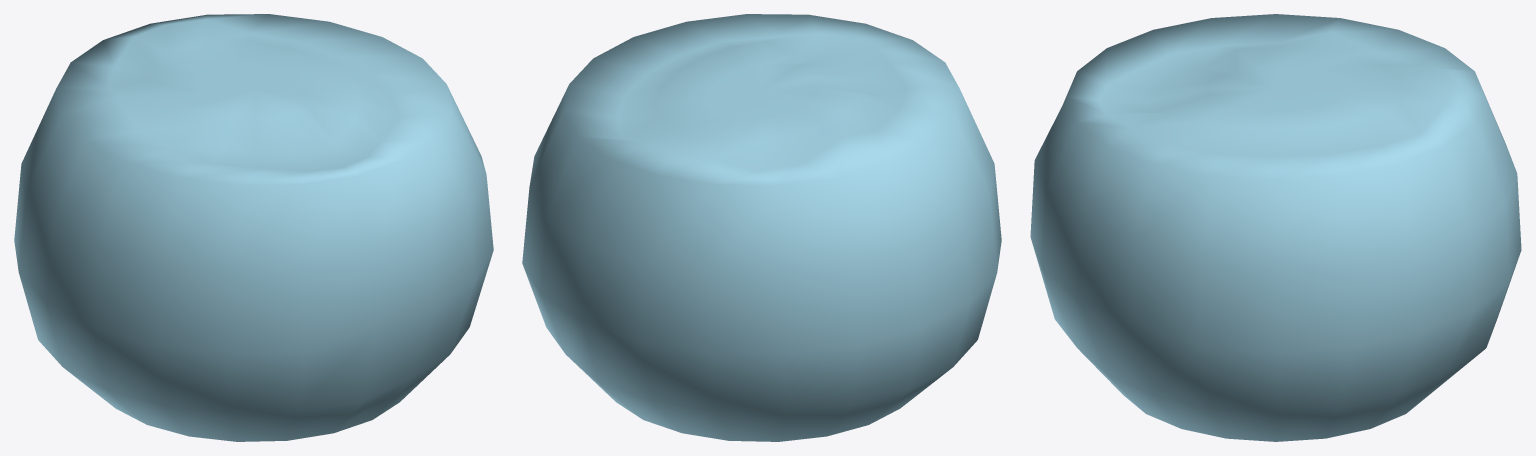
The model's file is Agua.obj.
3 renders of one model, left to right at view 1: azimuth 30°, elevation 25°; view 2: azimuth 150°, elevation 25°; view 3: azimuth 270°, elevation 25°, orthographic.
Parts seen in each view (by area): view 1: Agua:pSphere1; view 2: Agua:pSphere1; view 3: Agua:pSphere1.
Boxes of the visible parts, x1,y1,x2,y2 form: Agua:pSphere1: (14, 14, 493, 441); Agua:pSphere1: (522, 14, 1001, 441); Agua:pSphere1: (1030, 14, 1521, 441).
Bounding box in the file's own units: 0.3504 × 0.2298 × 0.3561.
Materials: 1 (1 with a texture image).
